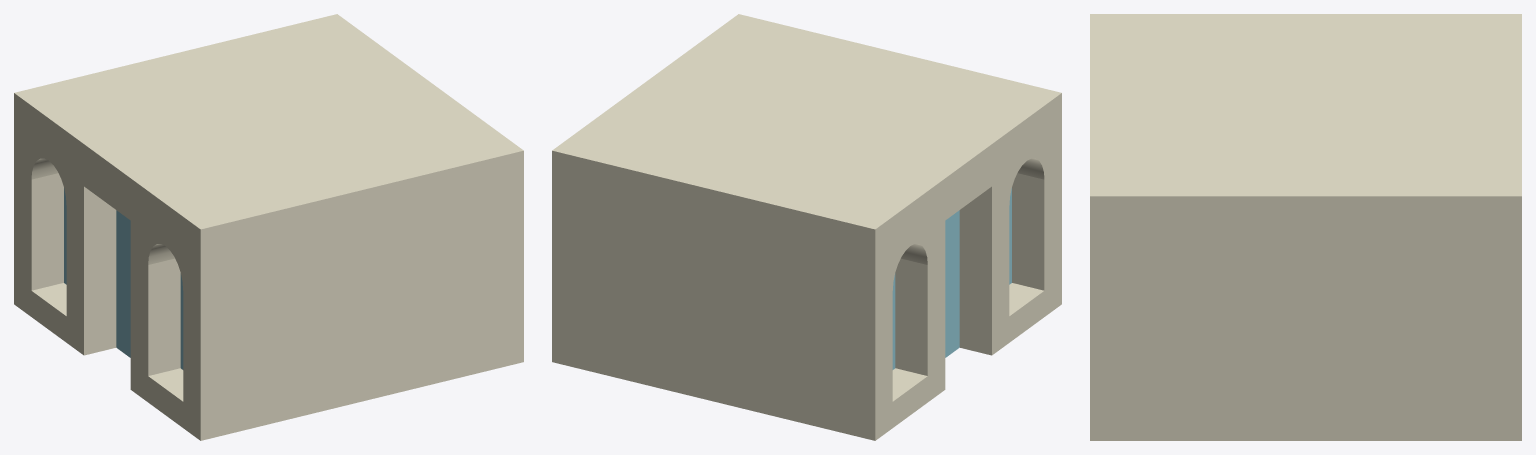
The model's file is modularBuildings_053.fbx.
The picture shows the model from 3 angles, left to right: view 1: azimuth 30°, elevation 25°; view 2: azimuth 150°, elevation 25°; view 3: azimuth 270°, elevation 25°; orthographic projection. The views are drawn at different scales.
Visible parts, largest first — view 1: Mesh1_Group1 Model; view 2: Mesh1_Group1 Model; view 3: Mesh1_Group1 Model.
Boxes of the visible parts, box(x1,y1,x2,y2) form: Mesh1_Group1 Model: box(14, 14, 523, 440); Mesh1_Group1 Model: box(552, 14, 1061, 440); Mesh1_Group1 Model: box(1090, 14, 1521, 440).
Bounding box in the file's own units: 1 × 0.625 × 1.
